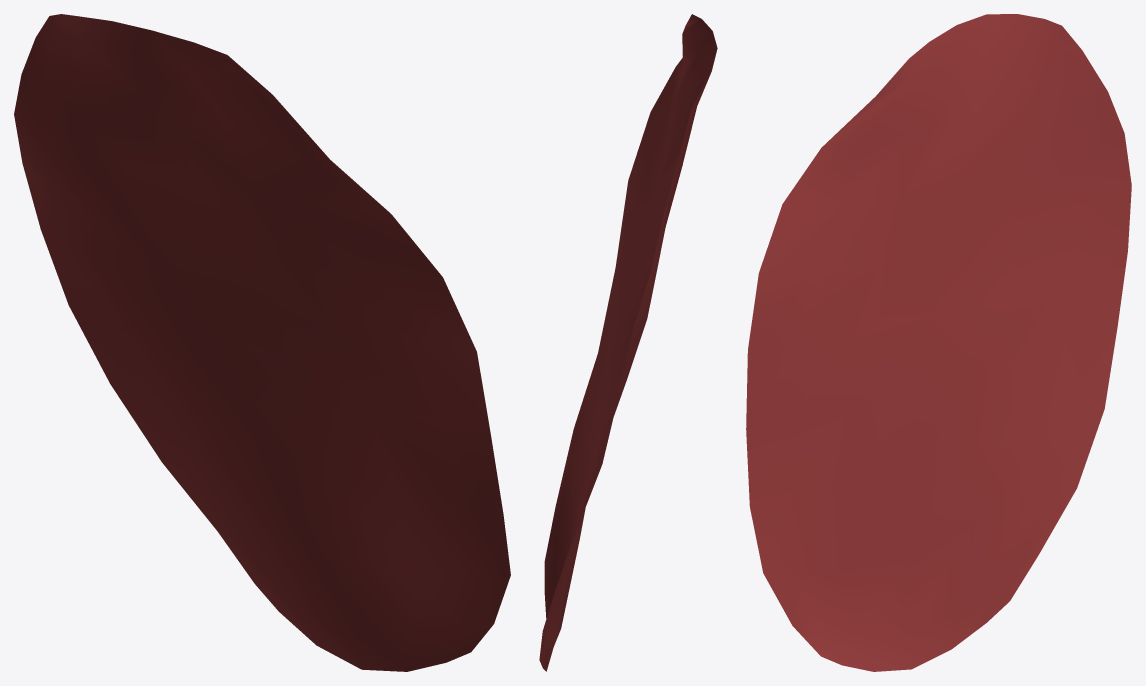
File: anserine-bursa-l.glb
The picture shows the model from 3 angles, left to right: view 1: azimuth 30°, elevation 25°; view 2: azimuth 150°, elevation 25°; view 3: azimuth 270°, elevation 25°; orthographic projection. The views are drawn at different scales.
Visible parts, largest first — view 1: Anserine bursa.l; view 2: Anserine bursa.l; view 3: Anserine bursa.l.
Boxes of the visible parts, bbox=[...] form: Anserine bursa.l: bbox=[14, 14, 510, 671]; Anserine bursa.l: bbox=[539, 14, 717, 671]; Anserine bursa.l: bbox=[746, 14, 1131, 671].
Bounding box in the file's own units: 0.0128 × 0.0283 × 0.0174.
